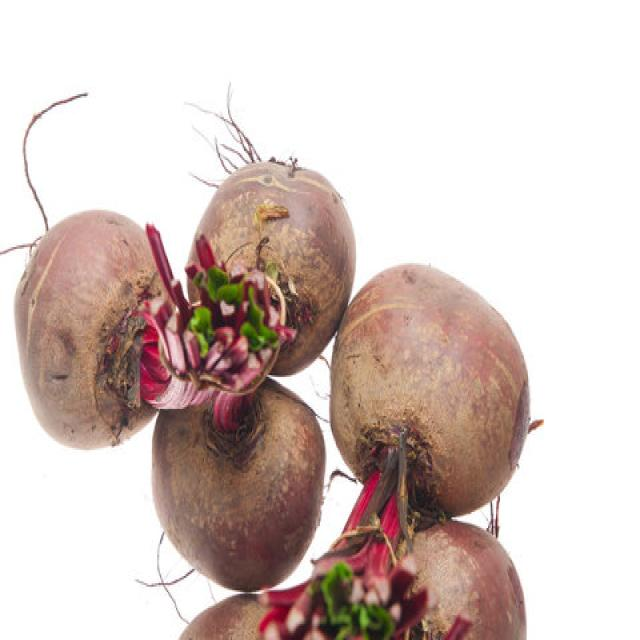Beetroot: (328, 260, 543, 534), (150, 377, 326, 592), (15, 207, 155, 436), (191, 148, 341, 351), (379, 530, 524, 640)
